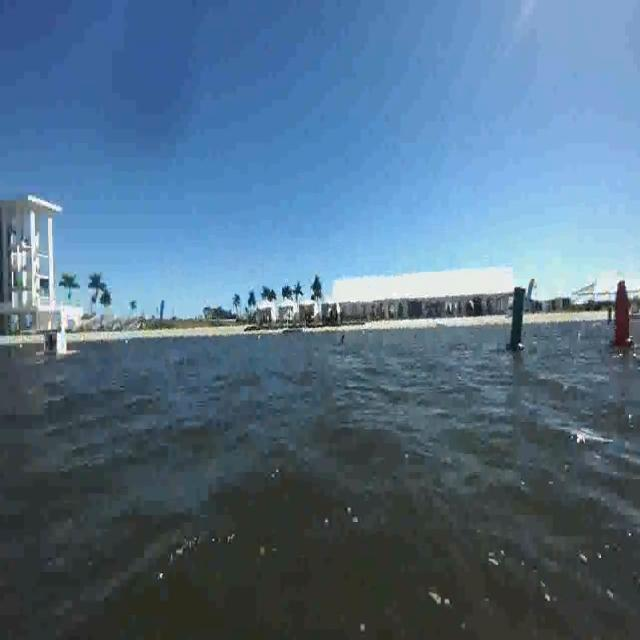green-column-buoy: (506, 282, 528, 352)
red-column-buoy: (612, 276, 634, 350)
